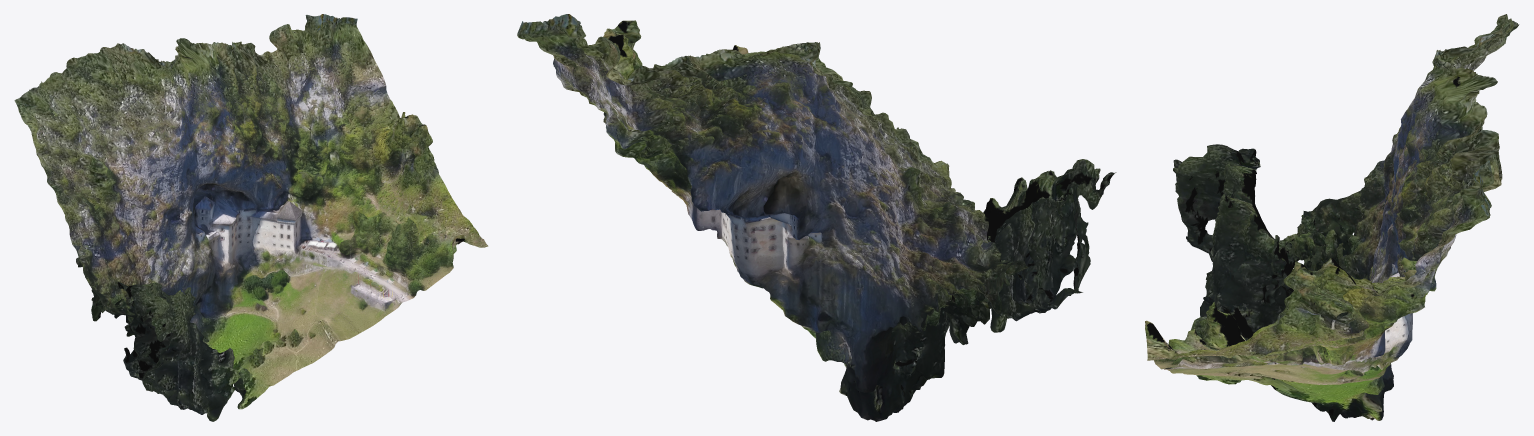
File: Landmark_Slovenia.glb
The picture shows the model from 3 angles, left to right: view 1: azimuth 30°, elevation 25°; view 2: azimuth 150°, elevation 25°; view 3: azimuth 270°, elevation 25°; orthographic projection. The views are drawn at different scales.
Parts seen in each view (by area): view 1: Object_3; view 2: Object_3; view 3: Object_3.
Boxes of the visible parts, x1=… form: Object_3: x1=14, y1=14, x2=488, y2=421; Object_3: x1=517, y1=14, x2=1116, y2=421; Object_3: x1=1145, y1=14, x2=1519, y2=421.
Bounding box in the file's own units: 26.48 × 23.48 × 20.6.
1 material, 1 textured.
